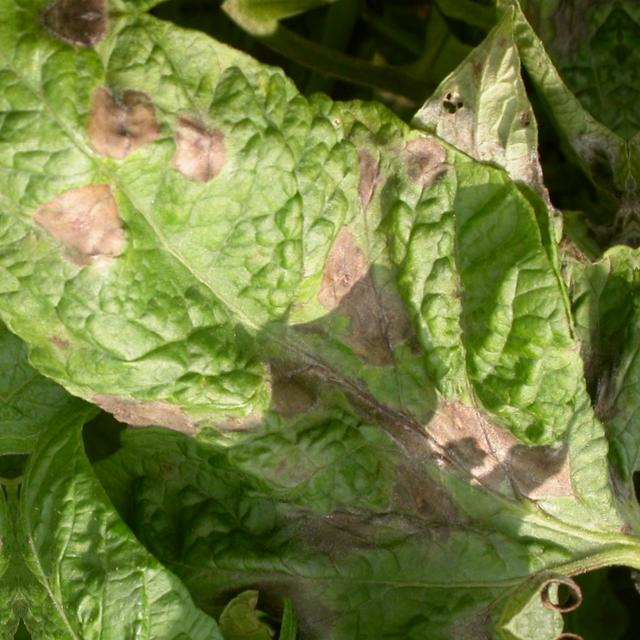Tomato leaf late blight: (0, 0, 640, 628)
